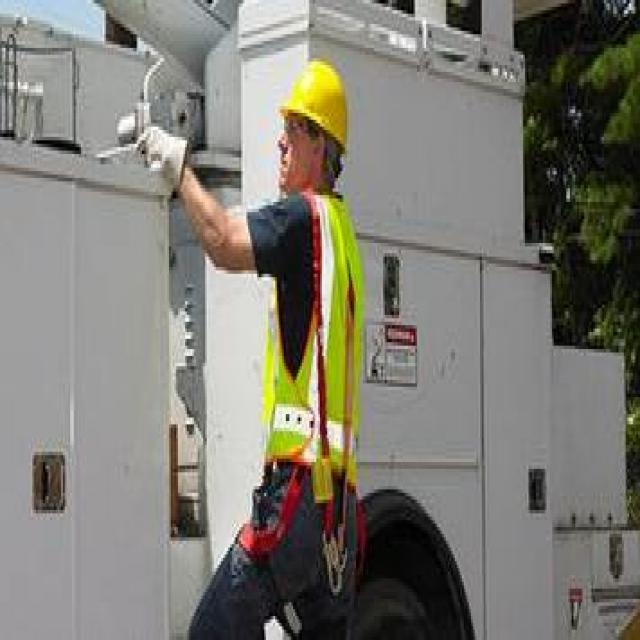Reflective-Jacket: (245, 185, 381, 548)
Safety-Helmet: (270, 51, 361, 168)
